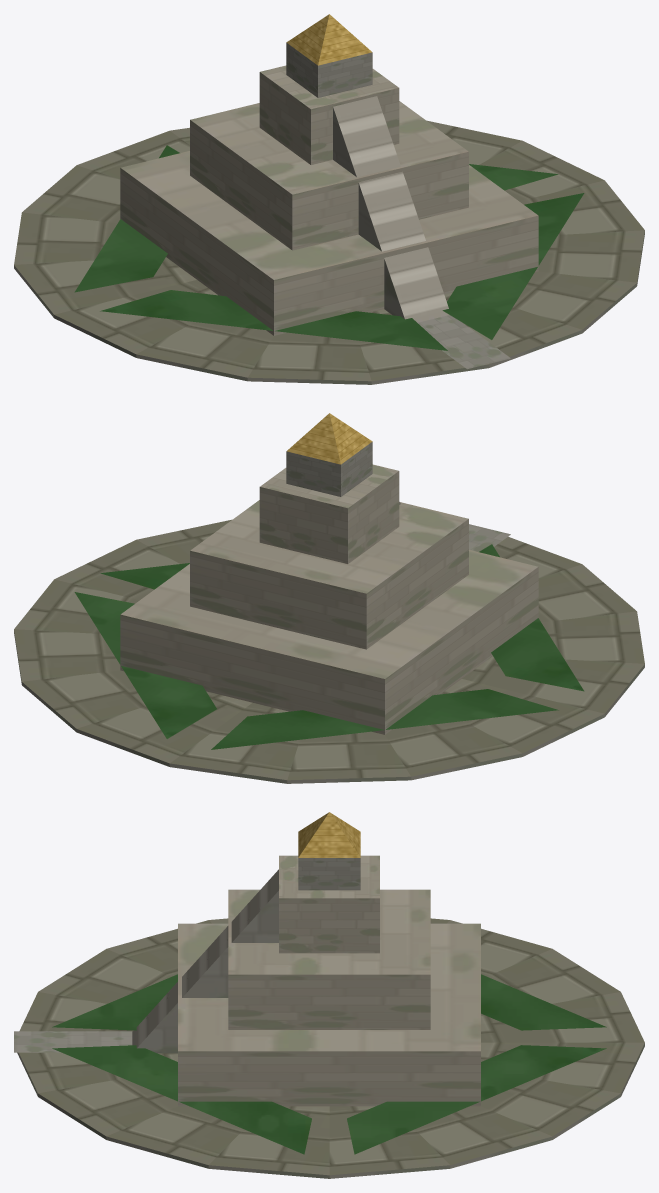
The model's file is pyramid_large_lod2.glb.
3 views of the same model, one above another, from view 1: azimuth 30°, elevation 25°; view 2: azimuth 150°, elevation 25°; view 3: azimuth 270°, elevation 25° (orthographic).
Parts seen in each view (by area): view 1: pyramid_large_lod2; view 2: pyramid_large_lod2; view 3: pyramid_large_lod2.
Part boxes in pixels (x1,y1,x2,y2): pyramid_large_lod2: (14,14,644,384); pyramid_large_lod2: (14,413,644,783); pyramid_large_lod2: (14,812,644,1178).
Size of the model in its own units: 1.89 by 0.779 by 1.9.
Materials: 1 (1 with a texture image).
